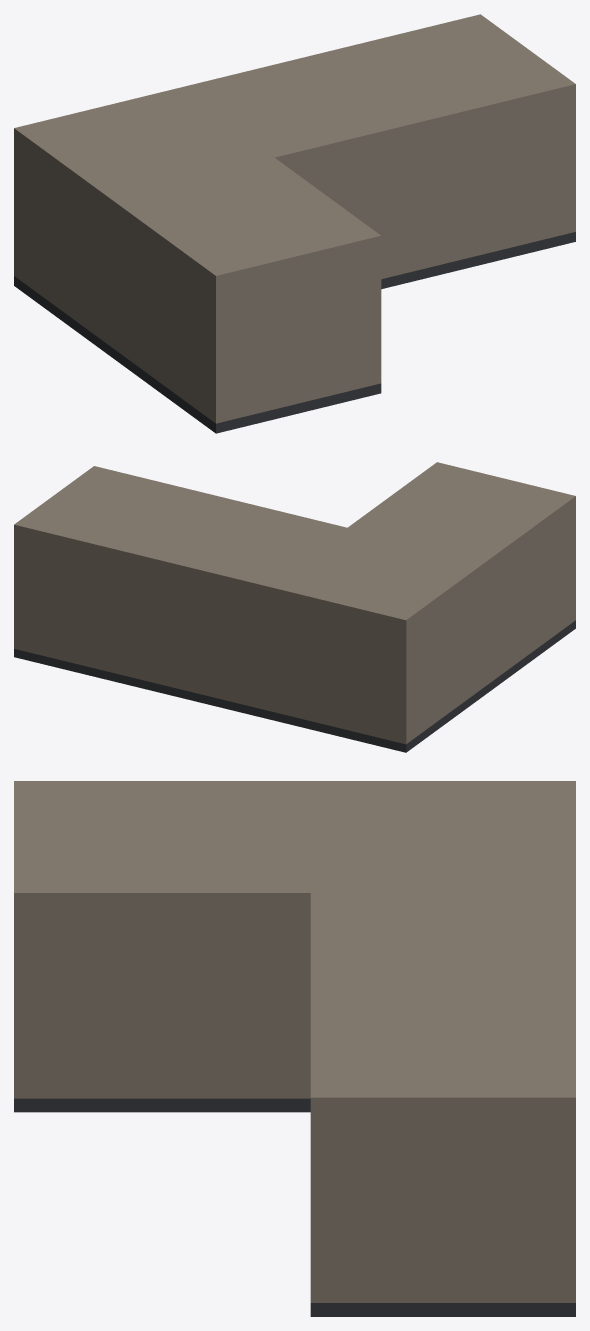
The model's file is lounge_sectional_L_96x72.glb.
The picture shows the model from 3 angles, top to bottom: view 1: azimuth 30°, elevation 25°; view 2: azimuth 150°, elevation 25°; view 3: azimuth 270°, elevation 25°; orthographic projection. The views are drawn at different scales.
Bounding box in the file's own units: 2.44 × 0.7874 × 1.83.
